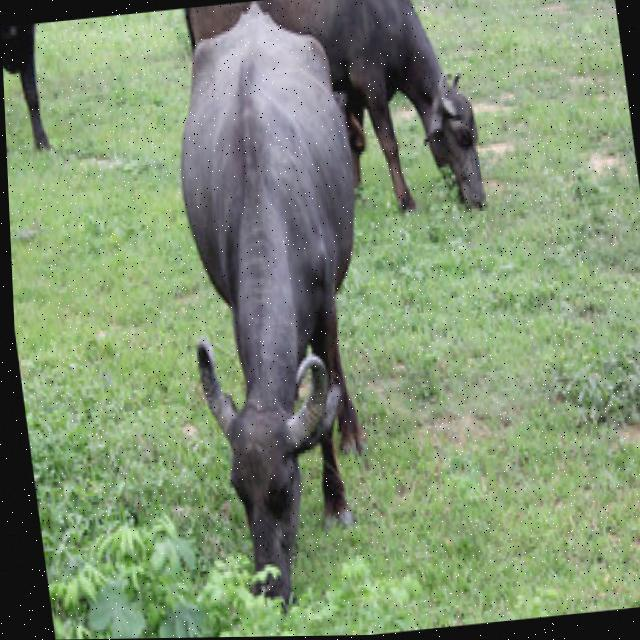Buffalo: (149, 2, 404, 620)
